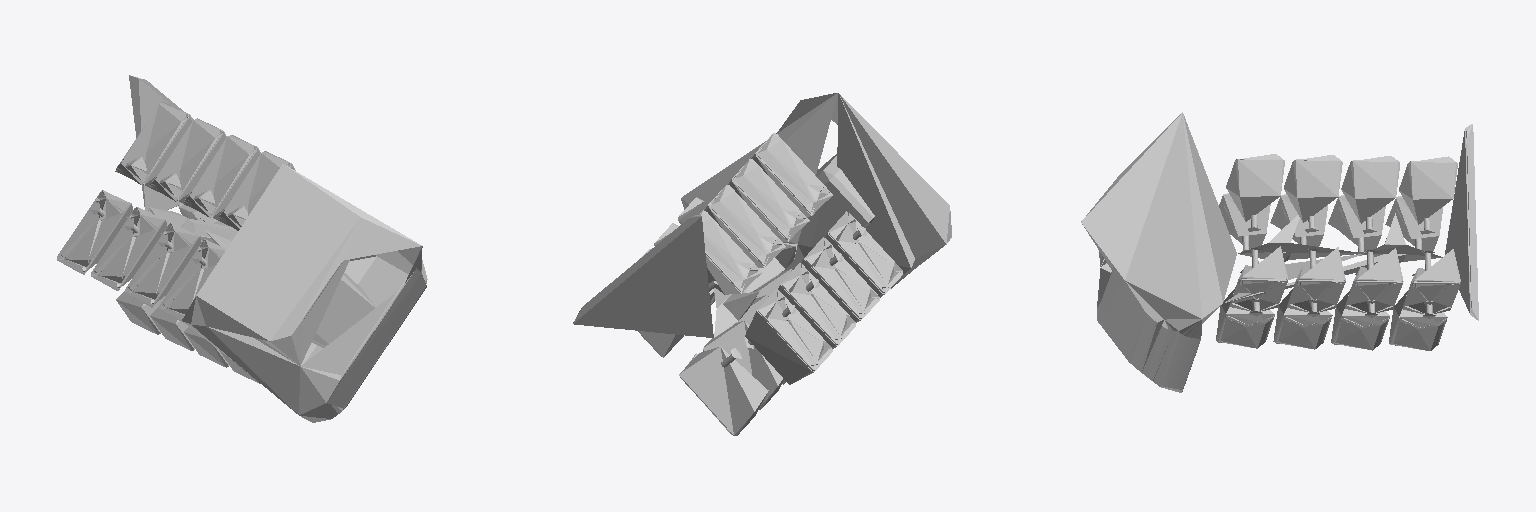
The model's file is right_collision_tower_main_mesh_mesh.obj.
3 renders of one model, left to right at view 1: azimuth 30°, elevation 25°; view 2: azimuth 150°, elevation 25°; view 3: azimuth 270°, elevation 25°, orthographic.
Size of the model in its own units: 0.1156 by 0.1166 by 0.1577.